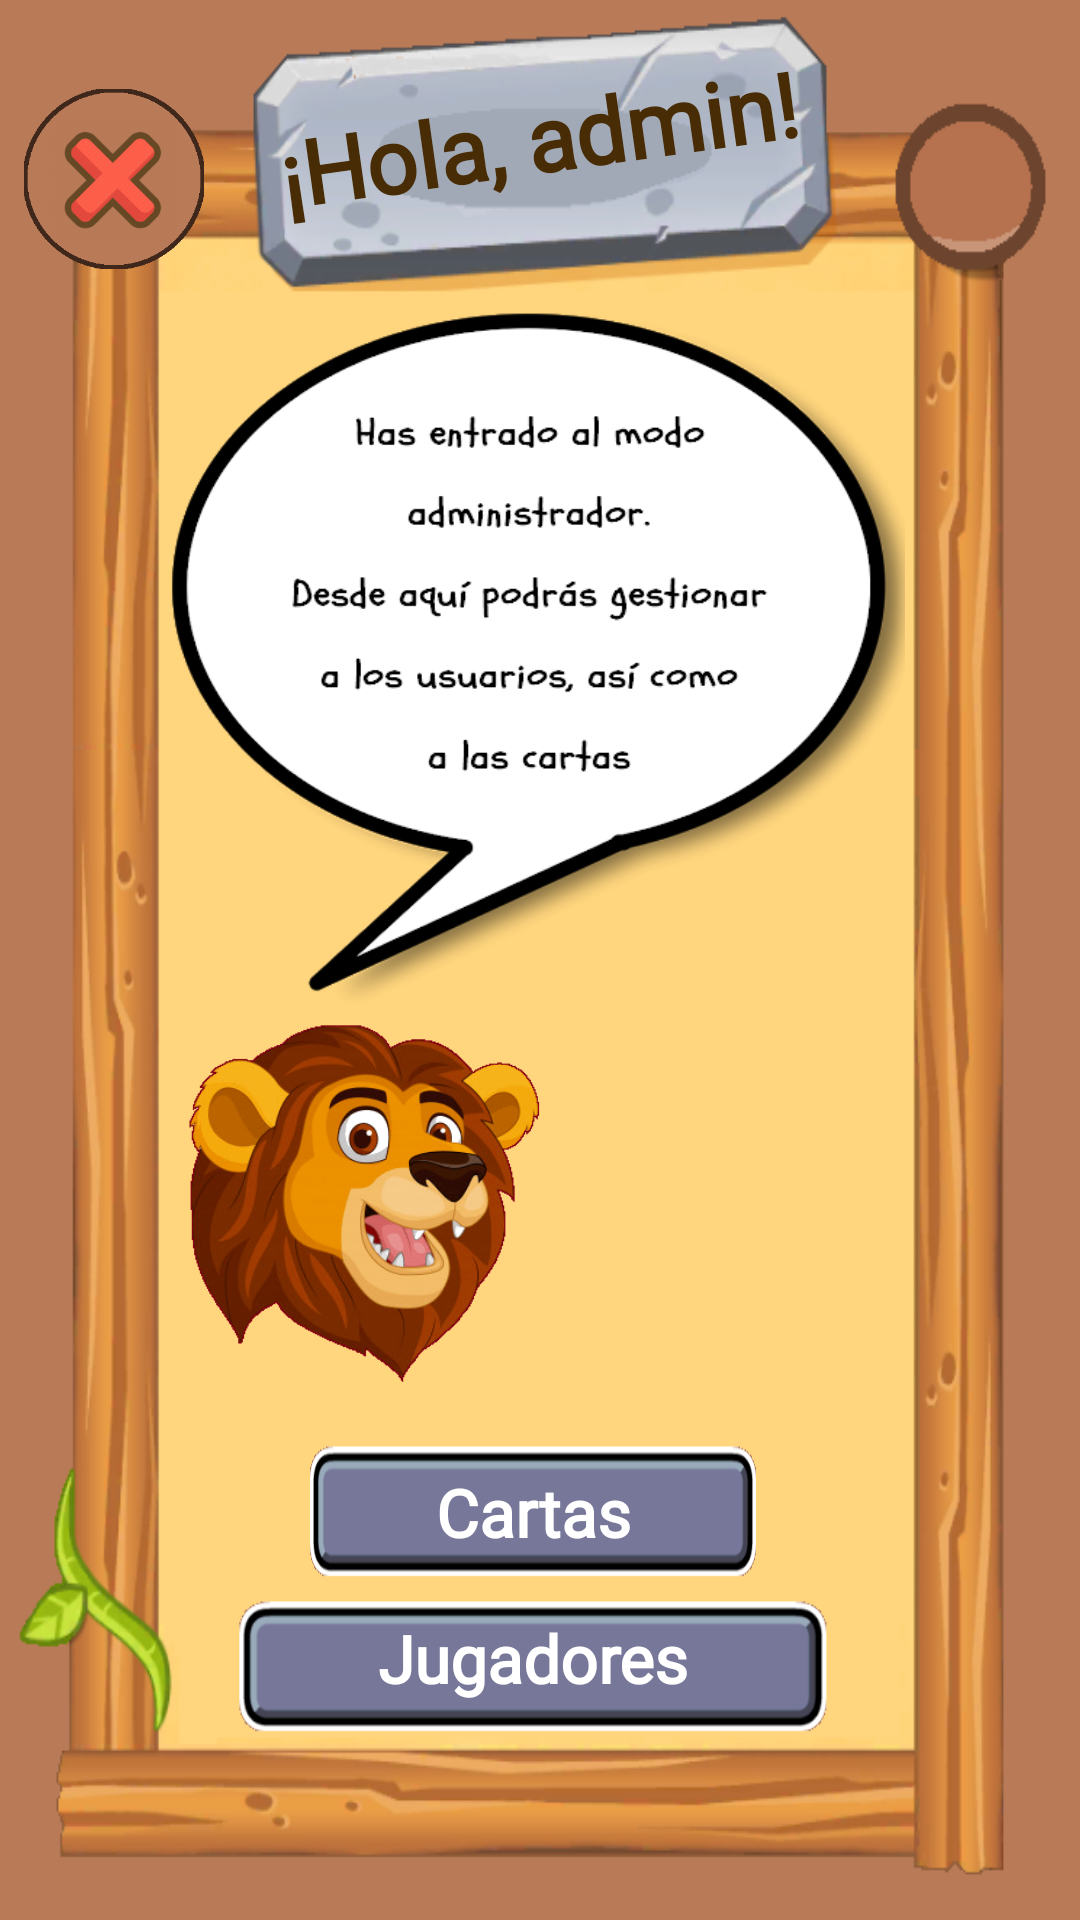

Named icons in this screenshot (1080 × 1920) and their bounding boxes, (x1, y1, x2, y2):
cerrar: (65, 132, 161, 228)
León: (189, 1025, 539, 1382)
